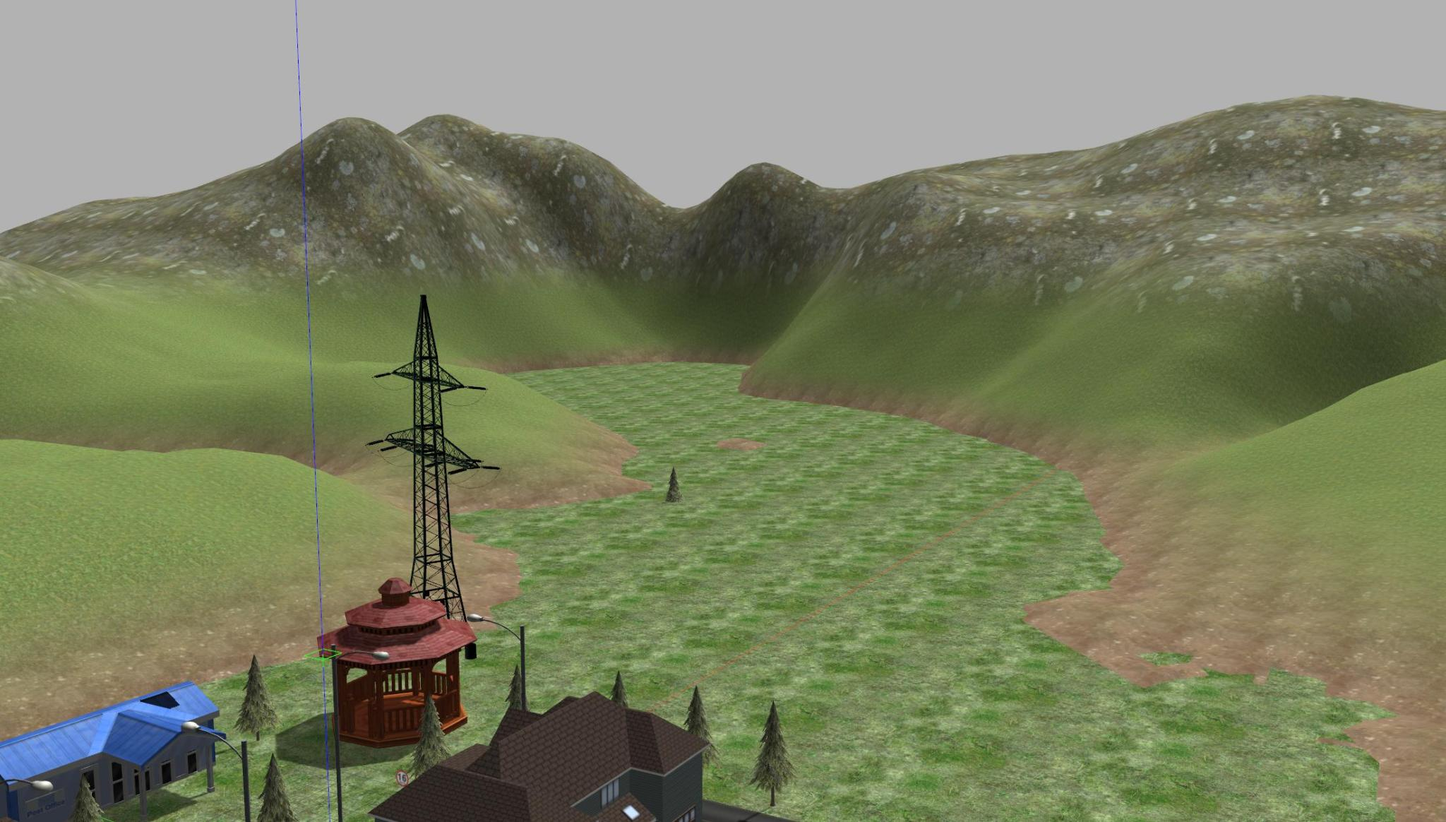tower: (386, 293, 479, 586)
